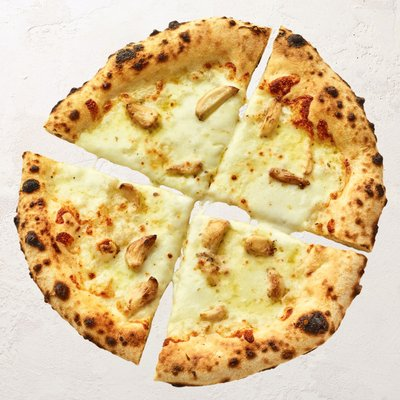sandwich: (14, 16, 393, 391), (15, 152, 193, 364)
